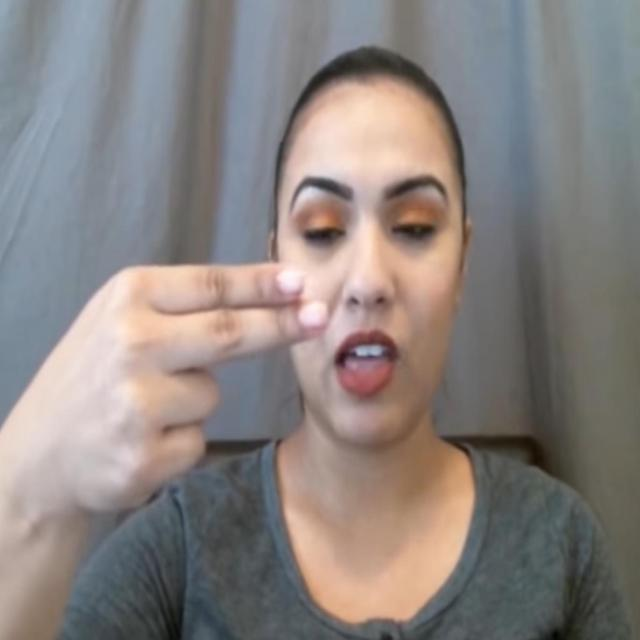H: (0, 255, 333, 520)
